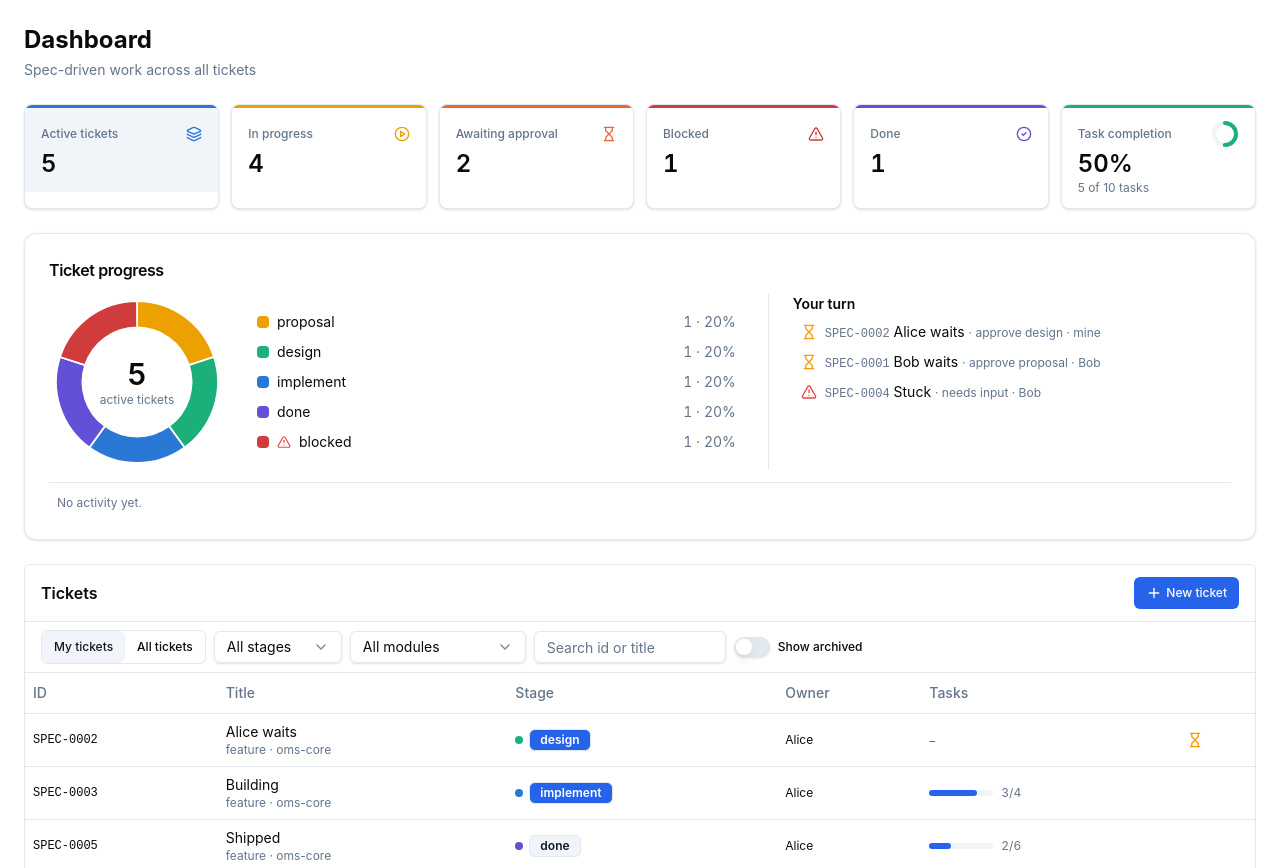
Test: Dashboard › clicking In progress or Awaiting approval again removes the filter
Click the button "In progress 4" at {"x": 329, "y": 150}, box left=232, top=108, right=426, bottom=192
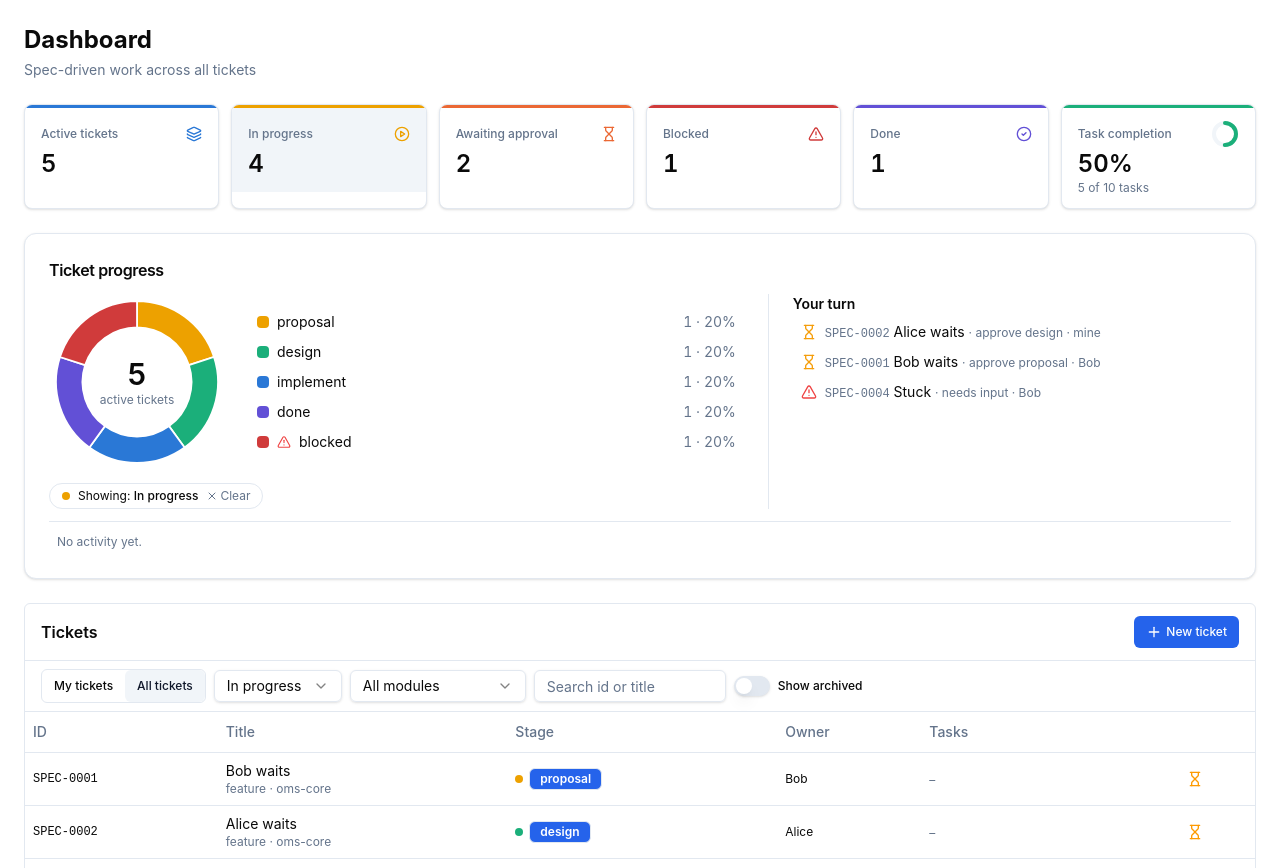
Expected: the element with test id "stage-filter-chip" shows "In progress", left=134, top=488, right=198, bottom=503
Click the button "In progress 4" at {"x": 329, "y": 150}, box left=232, top=108, right=426, bottom=192
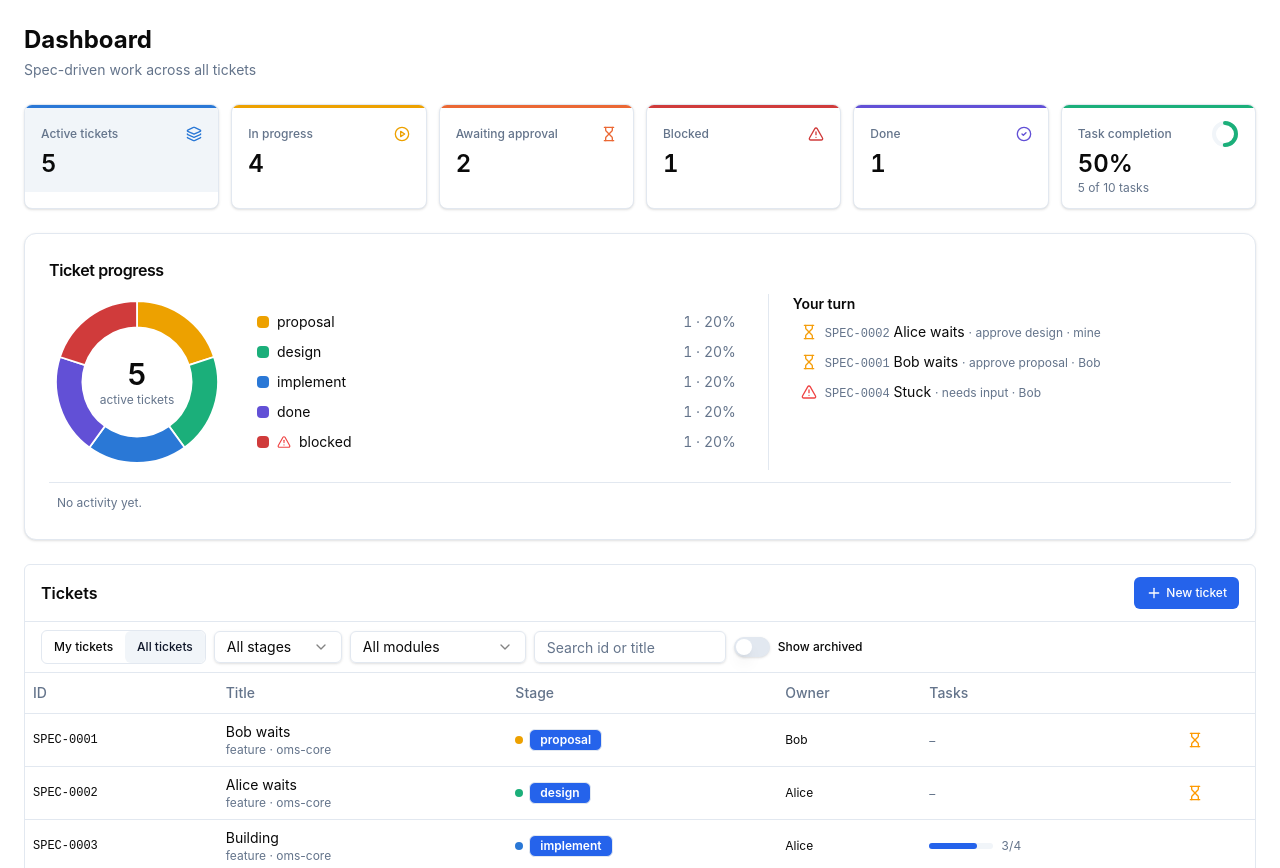
Expected: the element with test id "stage-filter-chip" is gone
Click the button "Awaiting approval 2" at {"x": 536, "y": 150}, box left=440, top=108, right=633, bottom=192
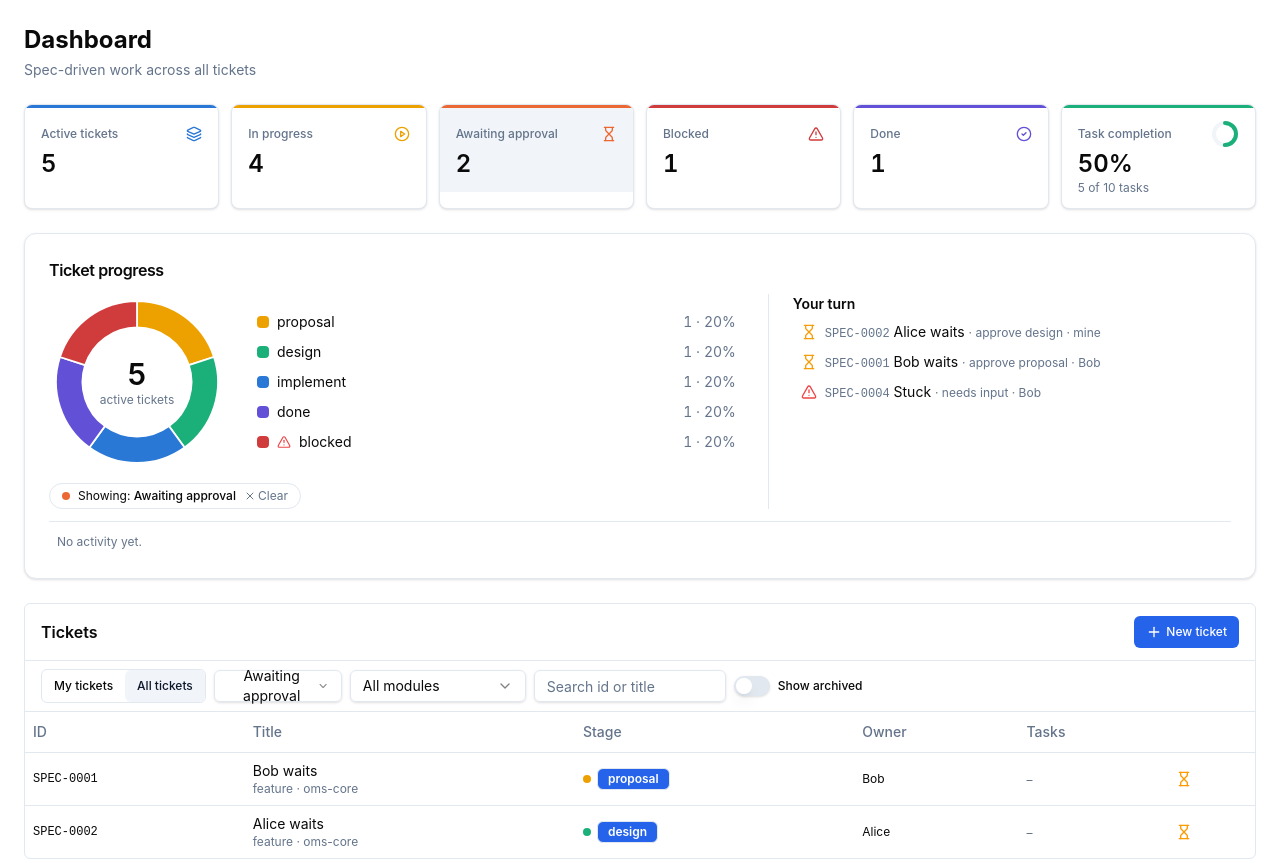
Expected: the element with test id "stage-filter-chip" shows "Awaiting approval", left=134, top=488, right=236, bottom=503
Click the button "Awaiting approval 2" at {"x": 536, "y": 150}, box left=440, top=108, right=633, bottom=192
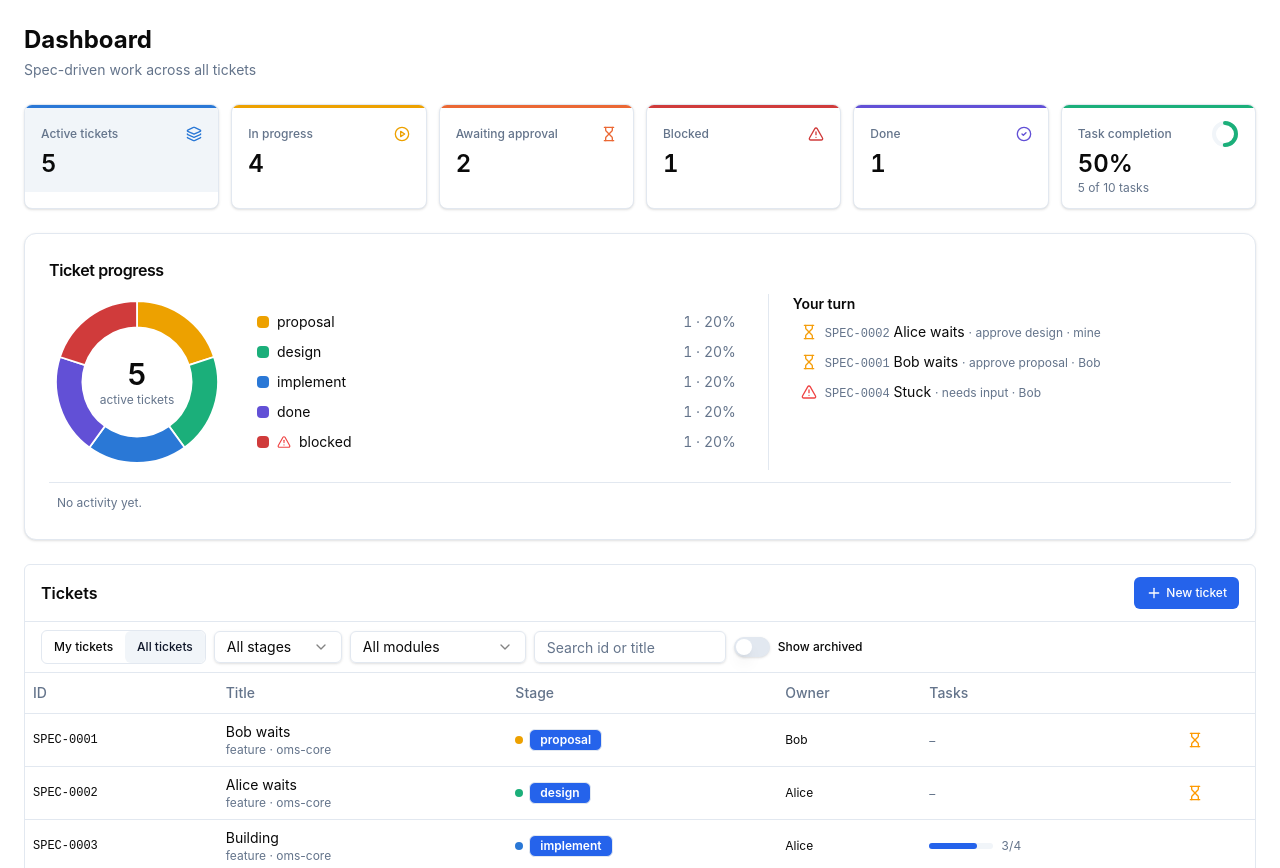
Expected: the element with test id "stage-filter-chip" is gone
